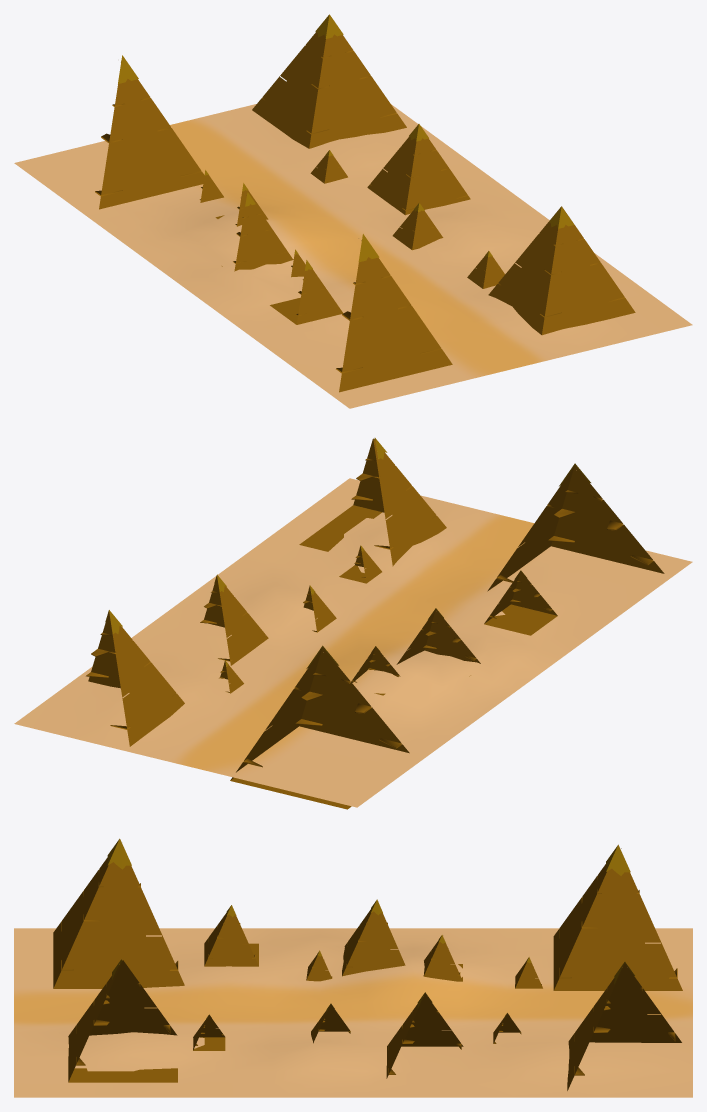
3 views of the same model, one above another, from view 1: azimuth 30°, elevation 25°; view 2: azimuth 150°, elevation 25°; view 3: azimuth 270°, elevation 25° (orthographic).
Visible parts, largest first — view 1: Plane.001, Cube.108, Cube.113, Cube.004, Cube.104, Cube.116, Cube.100, Cube.127, Cube.118, Cube.110, Cube.122; view 2: Plane.001, Cube.104, Cube.004, Cube.113, Cube.108, Cube.116, Cube.127, Cube.100, Cube.110, Cube.118, Cube.102; view 3: Plane.001, Cube.004, Cube.104, Cube.113, Cube.108, Cube.100, Cube.116, Cube.127, Cube.102, Cube.110, Cube.118, Cube.106 (+3 smaller).
Part boxes in pixels (<box>): Plane.001: <box>14,104,692,408</box>; Cube.108: <box>252,32,406,148</box>; Cube.113: <box>488,206,635,335</box>; Cube.004: <box>336,257,452,392</box>; Cube.104: <box>95,79,204,209</box>; Cube.116: <box>367,136,470,215</box>; Cube.100: <box>222,204,293,271</box>; Cube.127: <box>270,269,343,324</box>; Cube.118: <box>392,210,443,250</box>; Cube.110: <box>467,255,504,288</box>; Cube.122: <box>310,155,347,183</box>; Plane.001: <box>14,478,692,807</box>; Cube.104: <box>230,647,409,809</box>; Cube.004: <box>487,465,664,591</box>; Cube.113: <box>299,438,446,566</box>; Cube.108: <box>86,611,184,746</box>; Cube.116: <box>200,576,268,665</box>; Cube.127: <box>484,571,557,635</box>; Cube.100: <box>396,609,480,676</box>; Cube.110: <box>339,546,381,583</box>; Cube.118: <box>303,586,336,632</box>; Cube.102: <box>351,646,400,695</box>; Plane.001: <box>14,928,692,1097</box>; Cube.004: <box>53,857,184,988</box>; Cube.104: <box>553,864,682,990</box>; Cube.113: <box>68,960,177,1082</box>; Cube.108: <box>567,963,681,1090</box>; Cube.100: <box>342,909,405,976</box>; Cube.116: <box>386,993,463,1078</box>; Cube.127: <box>204,913,258,966</box>; Cube.102: <box>423,940,462,981</box>; Cube.110: <box>193,1015,225,1050</box>; Cube.118: <box>311,1004,350,1043</box>; Cube.106: <box>515,961,542,988</box>.
Size of the model in its own units: 108 by 38.57 by 183.
1 material, 1 textured.
